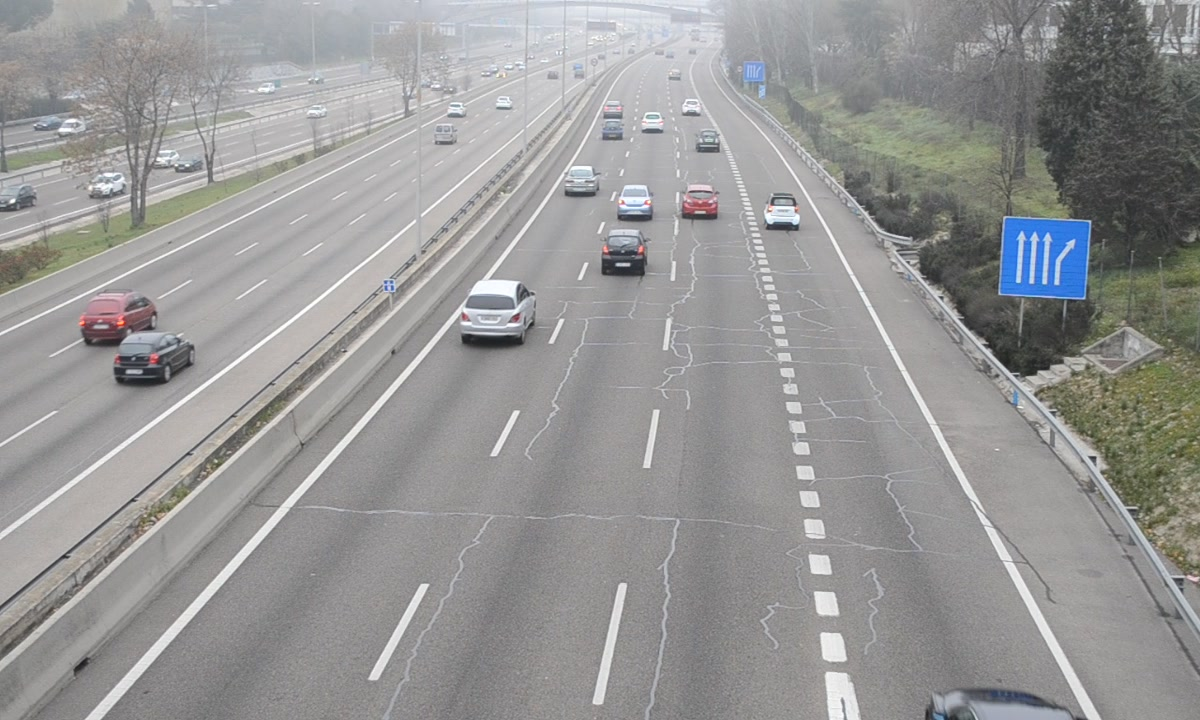car: (459, 278, 538, 337), (600, 230, 649, 276), (683, 184, 721, 221), (765, 192, 799, 232), (617, 184, 653, 221), (563, 166, 602, 198), (695, 130, 722, 154), (639, 110, 665, 134), (600, 119, 625, 142)
